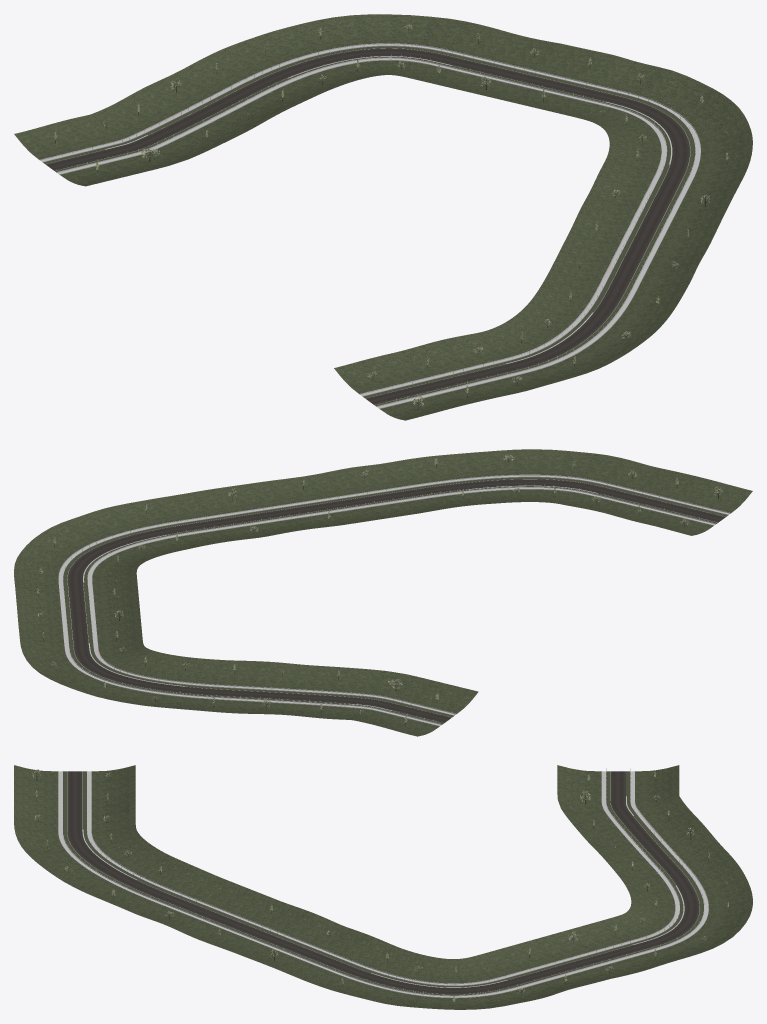
3 renders of one model, top to bottom at view 1: azimuth 30°, elevation 25°; view 2: azimuth 150°, elevation 25°; view 3: azimuth 270°, elevation 25°, orthographic. The views are drawn at different scales.
Parts seen in each view (by area): view 1: Grass, Road, Track, Trees; view 2: Grass, Track, Road, Trees; view 3: Grass, Road, Track, Trees.
Boxes of the visible parts, <box> form: Grass: <box>14,14,752,420</box>; Road: <box>45,48,690,404</box>; Track: <box>40,43,700,408</box>; Trees: <box>54,24,728,409</box>; Grass: <box>14,449,752,736</box>; Track: <box>58,474,730,726</box>; Road: <box>67,479,725,723</box>; Trees: <box>35,455,722,726</box>; Grass: <box>14,765,752,1009</box>; Road: <box>67,771,699,994</box>; Track: <box>58,768,708,998</box>; Trees: <box>32,769,728,1005</box>.
Size of the model in its own units: 65259 by 2571 by 84989.
